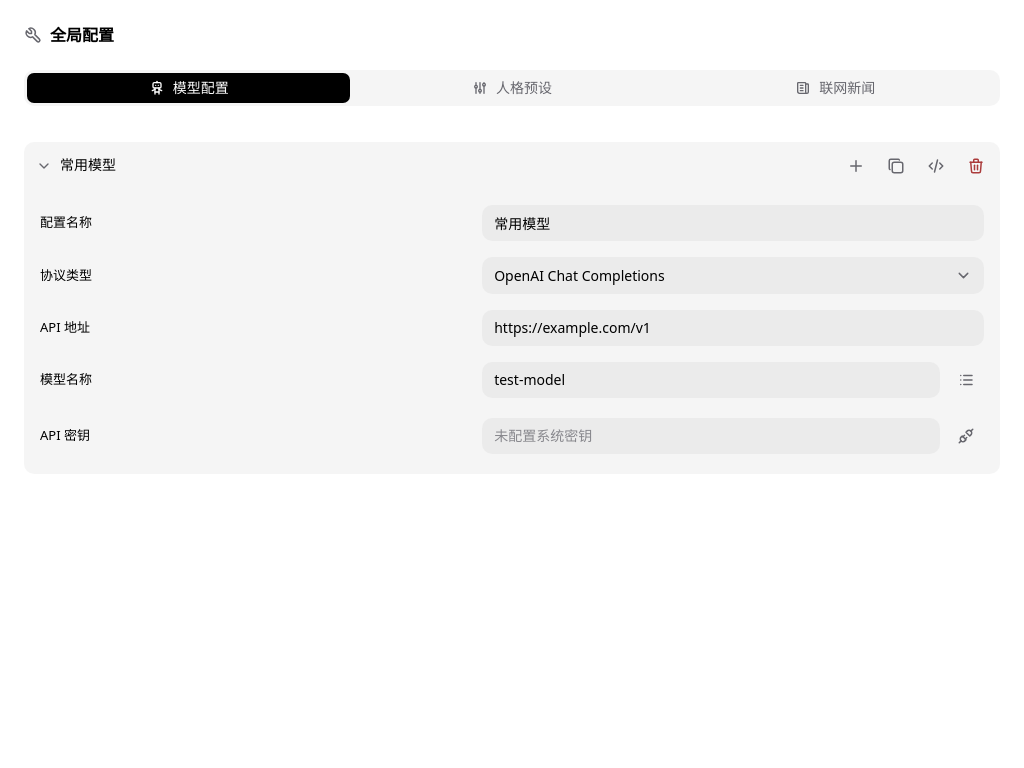
Scenario: 即时应用的全局配置 › 关闭新闻注入仍可实时测试，展示摘要与日期
Check: the field named "模型名称" is shown, box x1=482 y1=362 x2=940 y2=398
Click the tab "联网新闻" at (835, 88), box x1=674 y1=73 x2=997 y2=103
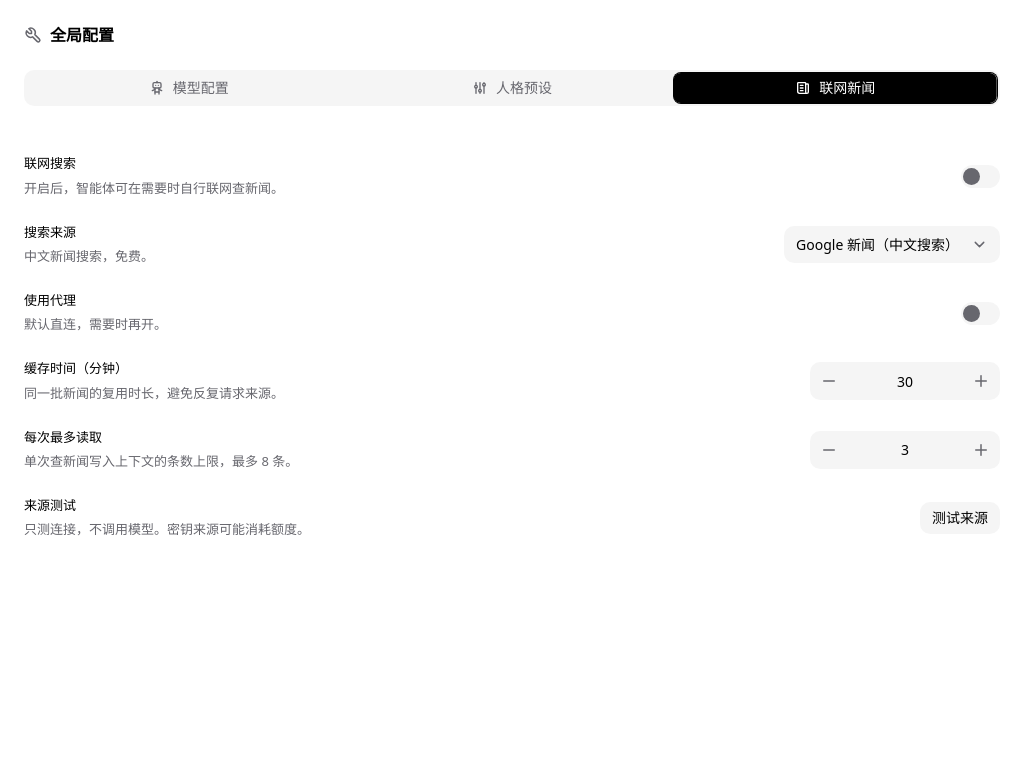
Click the button "测试来源" at (960, 518), box x1=920 y1=502 x2=1000 y2=534
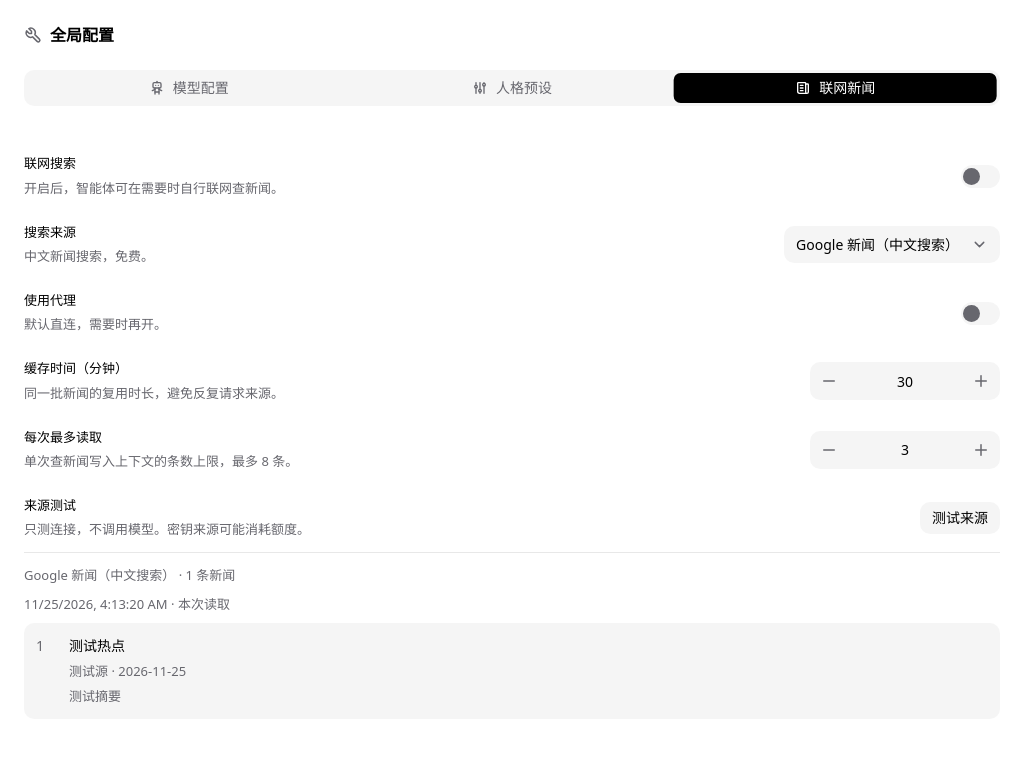
Check: the text "测试摘要" is shown, box x1=69 y1=687 x2=121 y2=705
Check: the text "测试源 · 2026-11-25" is shown, box x1=69 y1=661 x2=186 y2=682
